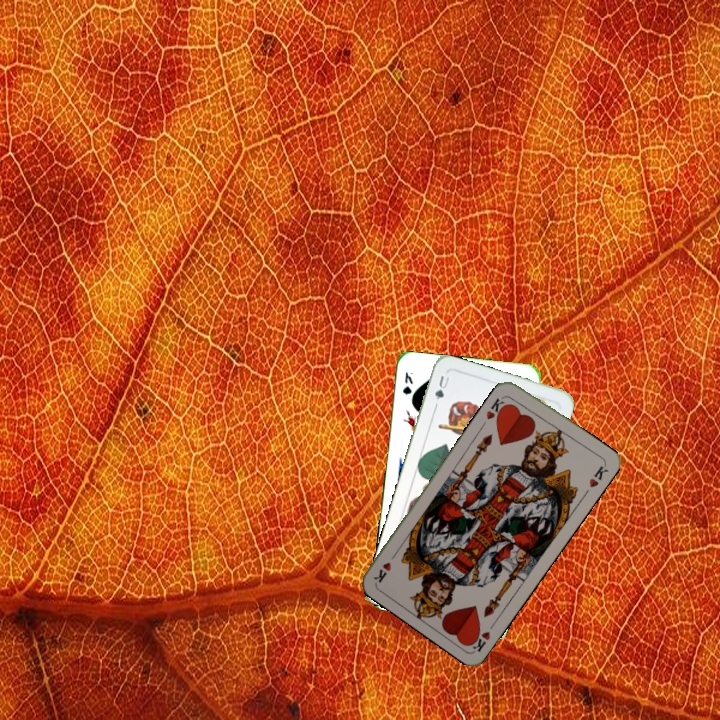GK: (399, 368, 416, 397)
GU: (431, 371, 452, 409)
HK: (466, 616, 499, 654), (482, 391, 510, 424)
